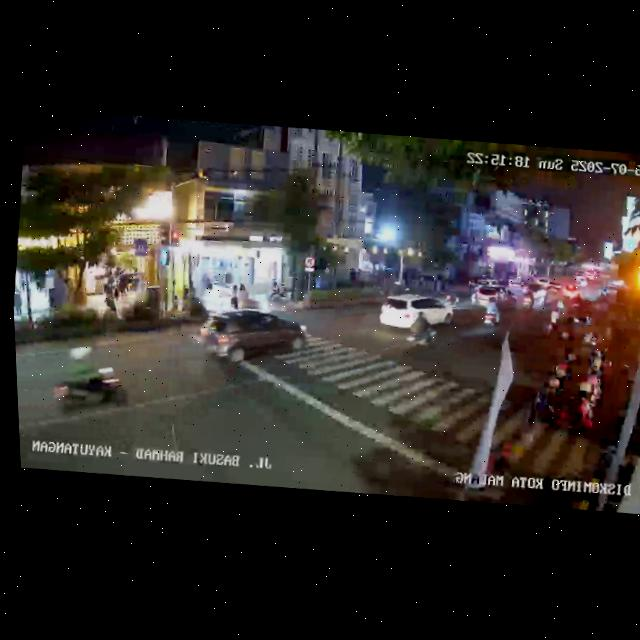car: (198, 301, 313, 377), (374, 288, 455, 341), (470, 282, 517, 311)
motorcycle: (46, 341, 132, 424), (404, 307, 441, 350), (479, 295, 502, 332), (546, 297, 568, 334), (519, 288, 536, 314)
person: (104, 279, 119, 314), (227, 280, 242, 308), (13, 289, 23, 316), (239, 279, 249, 304)
